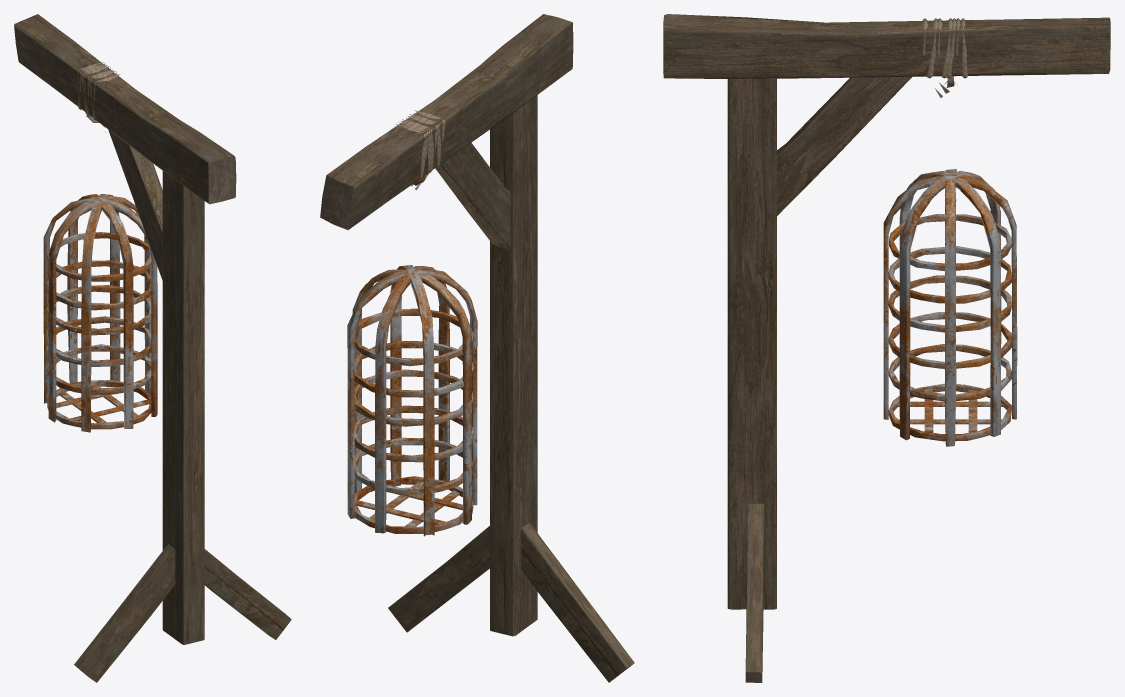
The model's file is SM_Cage01.fbx.
The picture shows the model from 3 angles, left to right: view 1: azimuth 30°, elevation 25°; view 2: azimuth 150°, elevation 25°; view 3: azimuth 270°, elevation 25°; orthographic projection. The views are drawn at different scales.
Visible parts, largest first — view 1: SM_Cage01_LOD0; view 2: SM_Cage01_LOD0; view 3: SM_Cage01_LOD0.
Part boxes in pixels (<box>): SM_Cage01_LOD0: <box>14,14,291,682</box>; SM_Cage01_LOD0: <box>320,14,634,682</box>; SM_Cage01_LOD0: <box>663,14,1110,682</box>.
Size of the model in its own units: 155 by 247 by 373.
